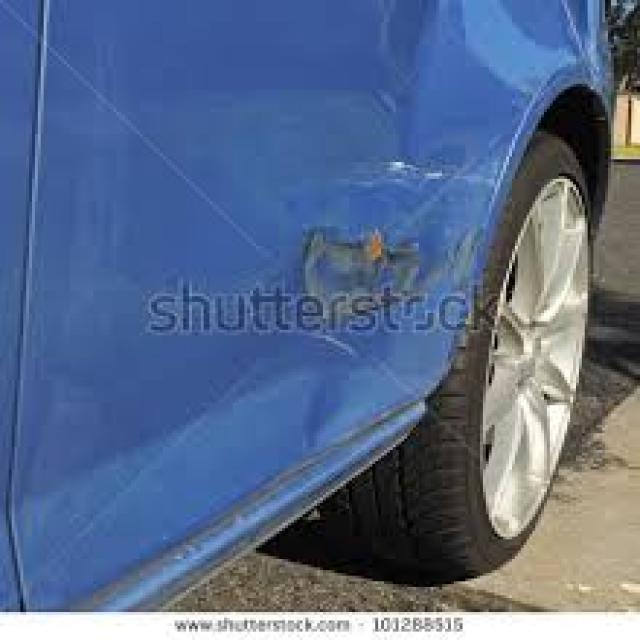minor: (271, 212, 537, 434)
